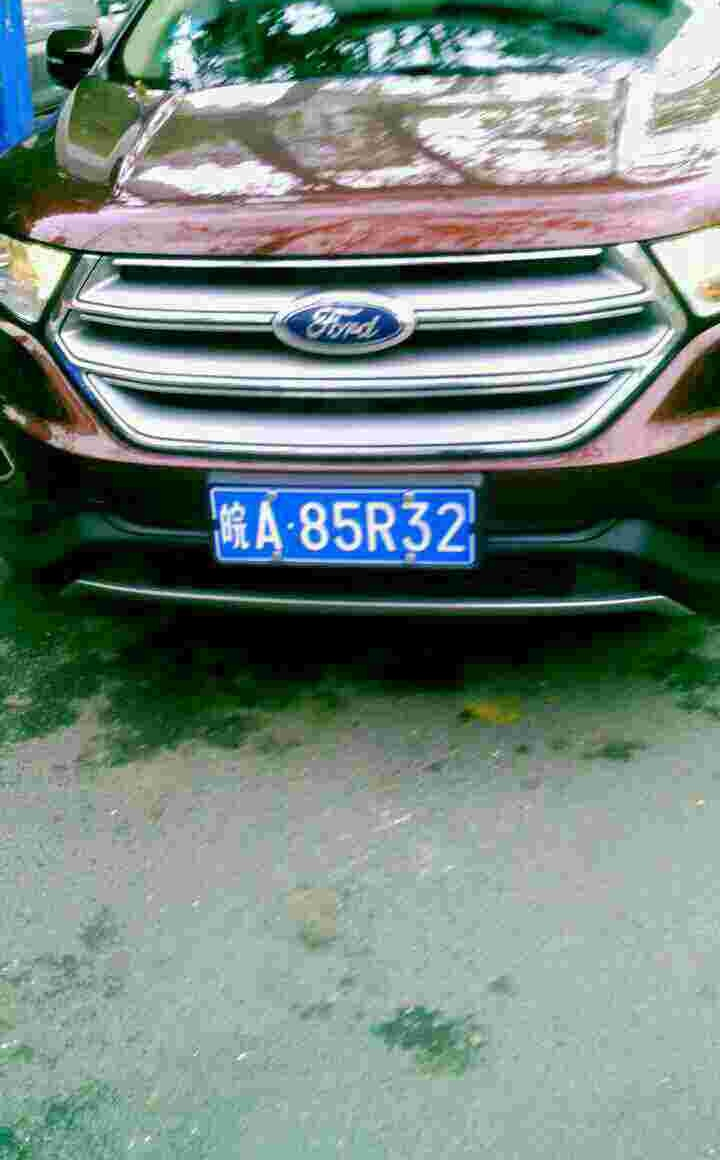license_plate: (219, 482, 464, 569)
